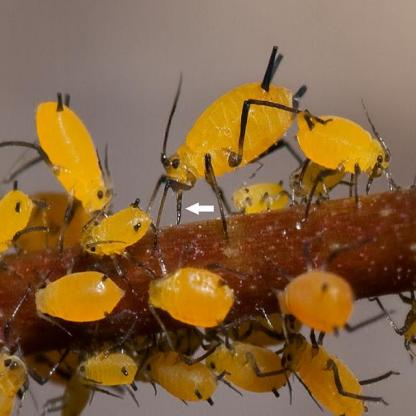aphid: (156, 42, 298, 218), (10, 85, 126, 218), (296, 98, 398, 201), (275, 327, 391, 416), (254, 252, 358, 336), (23, 266, 137, 341), (136, 332, 226, 411), (198, 323, 294, 395), (143, 263, 237, 329), (74, 188, 162, 258), (20, 182, 98, 258), (212, 167, 306, 216), (288, 143, 356, 205), (70, 338, 141, 394), (0, 181, 37, 261), (46, 366, 98, 416), (0, 334, 30, 416), (392, 286, 416, 354)
